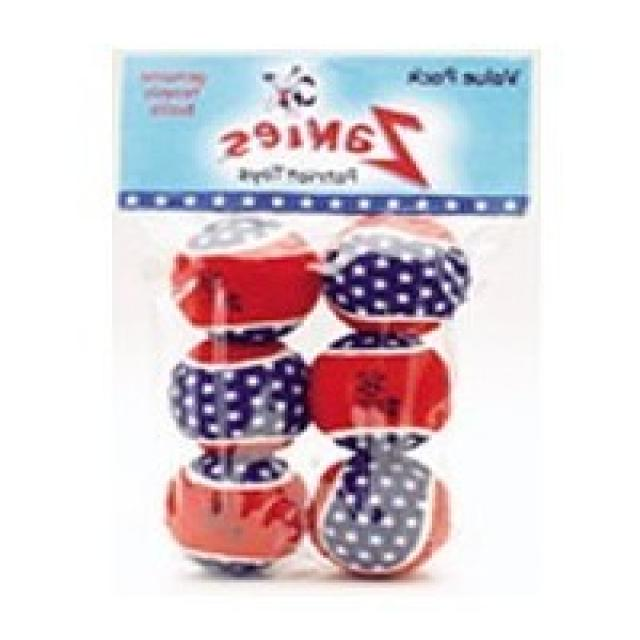Tennis Ball: (170, 213, 323, 345), (307, 443, 454, 580), (317, 219, 470, 342), (166, 334, 310, 462), (166, 449, 307, 577), (307, 334, 451, 454)
